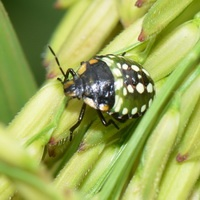insect: (48, 46, 154, 128)
